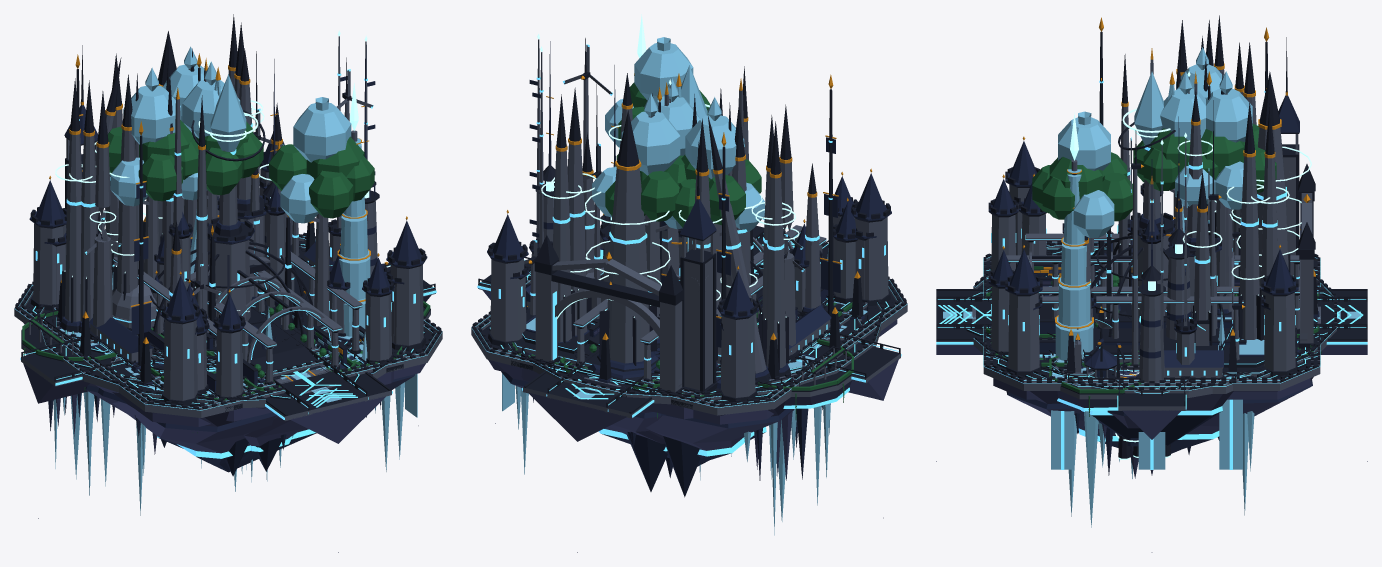
File: SC_RECOLOR_STORMHAWK.fbx
3 renders of one model, left to right at view 1: azimuth 30°, elevation 25°; view 2: azimuth 150°, elevation 25°; view 3: azimuth 270°, elevation 25°, orthographic. The views are drawn at different scales.
Visible parts, largest first — view 1: chunk_spire_court__stormhawk, chunk_sky_tree_grove__stormhawk, chunk_boss_clearing__stormhawk, chunk_path_colonnade__stormhawk, chunk_aether_springs__stormhawk, chunk_parade_ground__stormhawk, chunk_spire_court_b__stormhawk, chunk_path_straight__stormhawk, chunk_side_garden__stormhawk, chunk_archive__stormhawk, chunk_entry__stormhawk, chunk_garden_terrace__stormhawk (+19 smaller); view 2: chunk_spire_court__stormhawk, chunk_boss_clearing__stormhawk, chunk_garden_terrace__stormhawk, chunk_archive__stormhawk, chunk_sky_tree_grove__stormhawk, chunk_parade_ground__stormhawk, chunk_path_colonnade__stormhawk, chunk_armory__stormhawk, chunk_spire_court_b__stormhawk, chunk_aether_springs__stormhawk, chunk_path_long_span__stormhawk, chunk_entry__stormhawk (+14 smaller); view 3: chunk_spire_court__stormhawk, chunk_boss_clearing__stormhawk, chunk_aether_springs__stormhawk, chunk_garden_terrace__stormhawk, chunk_sky_tree_grove__stormhawk, chunk_armory__stormhawk, chunk_archive__stormhawk, chunk_parade_ground__stormhawk, chunk_side_garden__stormhawk, chunk_spire_court_b__stormhawk, chunk_crossroads__stormhawk, chunk_path_bend_west__stormhawk (+17 smaller).
Part boxes in pixels (bbox=[...]): chunk_spire_court__stormhawk: bbox=[14, 22, 442, 472]; chunk_sky_tree_grove__stormhawk: bbox=[107, 67, 402, 473]; chunk_boss_clearing__stormhawk: bbox=[37, 31, 406, 443]; chunk_path_colonnade__stormhawk: bbox=[38, 78, 360, 479]; chunk_aether_springs__stormhawk: bbox=[20, 83, 425, 552]; chunk_parade_ground__stormhawk: bbox=[20, 14, 436, 426]; chunk_spire_court_b__stormhawk: bbox=[52, 57, 403, 471]; chunk_path_straight__stormhawk: bbox=[163, 95, 333, 399]; chunk_side_garden__stormhawk: bbox=[151, 61, 356, 403]; chunk_archive__stormhawk: bbox=[64, 45, 393, 421]; chunk_entry__stormhawk: bbox=[109, 74, 352, 382]; chunk_garden_terrace__stormhawk: bbox=[21, 46, 430, 495]; chunk_spire_court__stormhawk: bbox=[471, 87, 907, 465]; chunk_boss_clearing__stormhawk: bbox=[508, 110, 884, 415]; chunk_garden_terrace__stormhawk: bbox=[560, 93, 854, 505]; chunk_archive__stormhawk: bbox=[520, 142, 851, 435]; chunk_sky_tree_grove__stormhawk: bbox=[512, 37, 852, 418]; chunk_parade_ground__stormhawk: bbox=[477, 94, 901, 424]; chunk_path_colonnade__stormhawk: bbox=[552, 121, 811, 521]; chunk_armory__stormhawk: bbox=[525, 132, 869, 497]; chunk_spire_court_b__stormhawk: bbox=[511, 38, 869, 491]; chunk_aether_springs__stormhawk: bbox=[489, 14, 901, 552]; chunk_path_long_span__stormhawk: bbox=[515, 74, 864, 477]; chunk_entry__stormhawk: bbox=[559, 104, 830, 406]; chunk_spire_court__stormhawk: bbox=[983, 42, 1367, 453]; chunk_boss_clearing__stormhawk: bbox=[936, 71, 1336, 398]; chunk_aether_springs__stormhawk: bbox=[936, 112, 1367, 552]; chunk_garden_terrace__stormhawk: bbox=[984, 71, 1321, 527]; chunk_sky_tree_grove__stormhawk: bbox=[990, 47, 1312, 367]; chunk_armory__stormhawk: bbox=[936, 27, 1367, 445]; chunk_archive__stormhawk: bbox=[936, 37, 1367, 360]; chunk_parade_ground__stormhawk: bbox=[942, 103, 1365, 399]; chunk_side_garden__stormhawk: bbox=[947, 71, 1215, 328]; chunk_spire_court_b__stormhawk: bbox=[984, 130, 1319, 439]; chunk_crossroads__stormhawk: bbox=[937, 71, 1367, 439]; chunk_path_bend_west__stormhawk: bbox=[1096, 159, 1190, 395].
Size of the model in its own units: 256 by 256 by 256.
